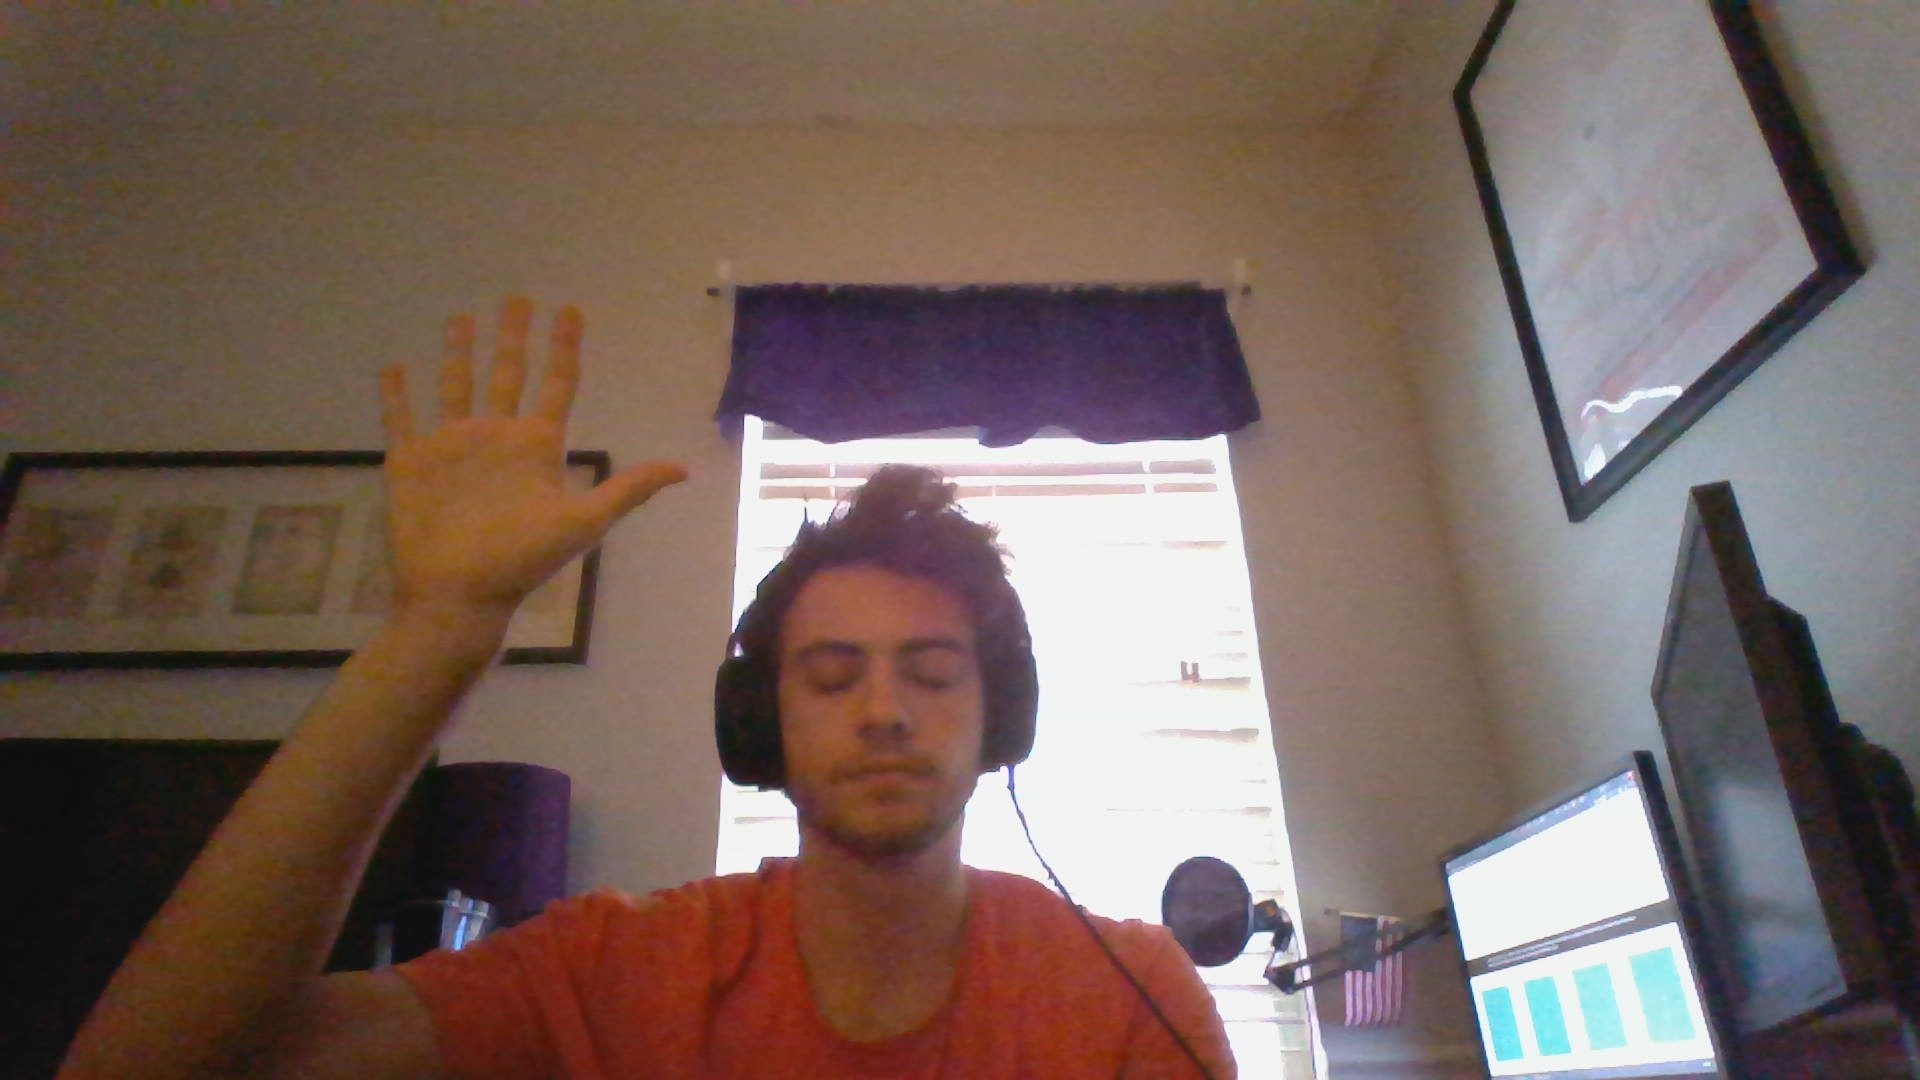Right Palm Up: (359, 287, 694, 632)
